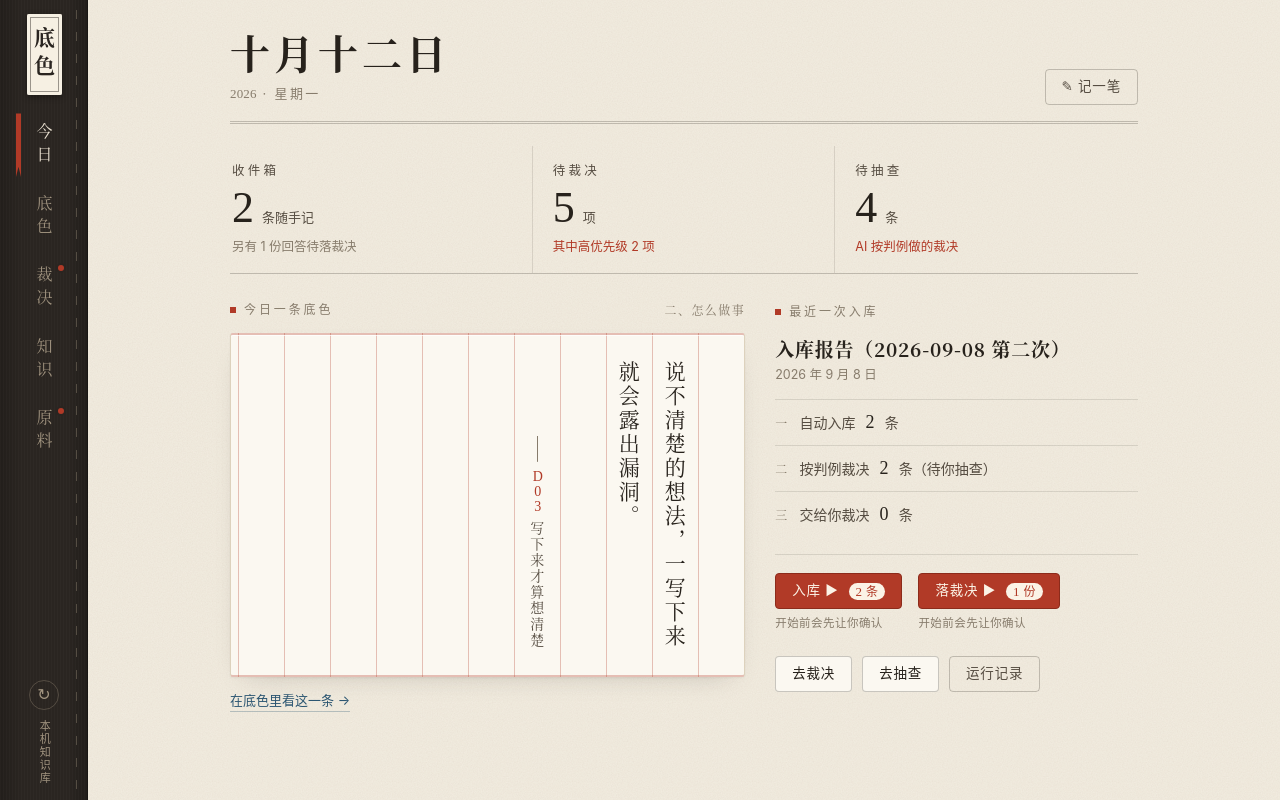
Test case: the history › lists the kept runs and opens one with its steps and check
Click the button "运行记录" at point(995, 674), box [949,656,1040,692]
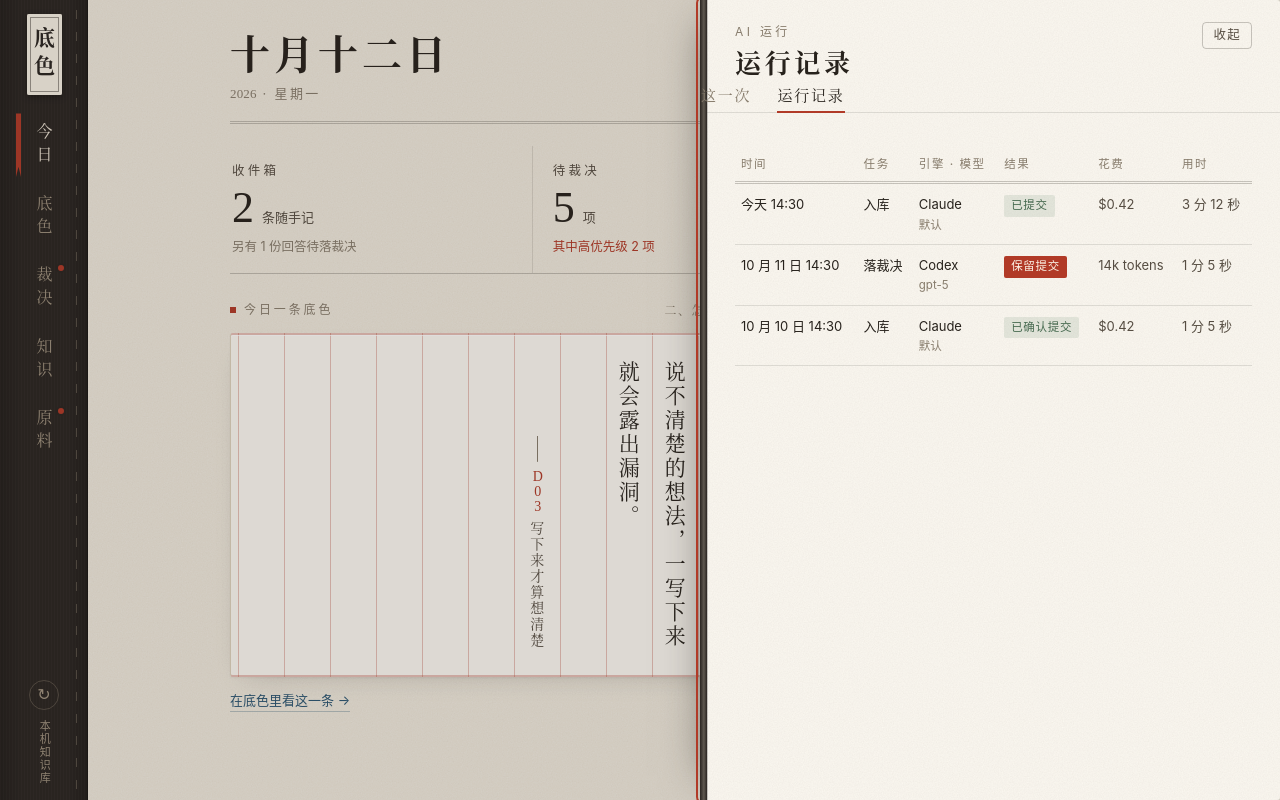
Check: the tab "运行记录" is shown, box [777,79,845,112]
Check: the row with class "history__row" shows "入库", box [864,196,890,212]
Check: the row with class "history__row" shows "Claude", box [919,196,962,212]
Click the row with class "history__row" that starts with "10 月 11 日 14:30" at point(994, 275), box [735,245,1252,305]
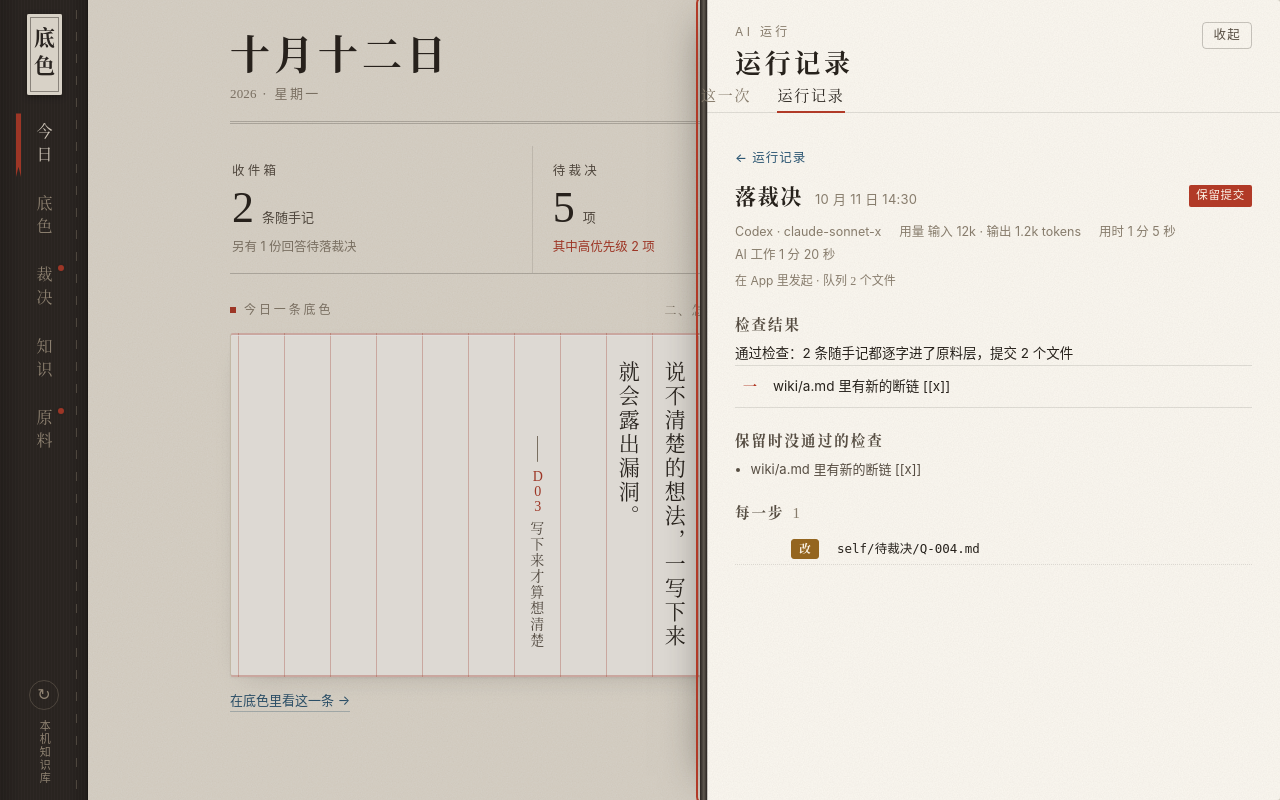
Check: the element with class "history-detail" shows "检查结果", box [735,313,801,334]
Check: the element with class "history-detail" shows "wiki/a.md 里有新的断链 [ [x]]", box [773,378,950,394]
Check: the element with class "history-detail" shows "保留时没通过的检查", box [735,429,884,450]
Click the button "← 运行记录" at point(771, 158), box [735,149,806,166]
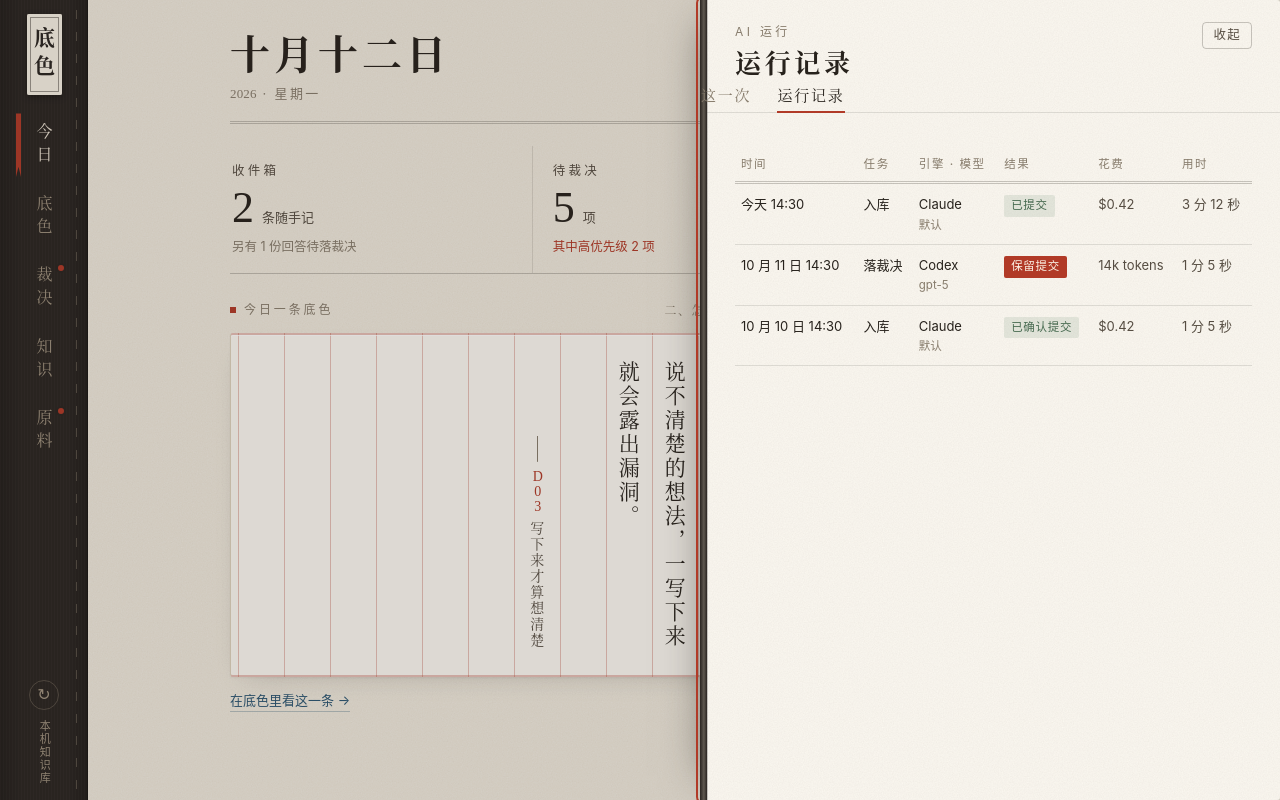
Check: the number of rows with class "history__row" is 3
Click the row with class "history__row" that starts with "10 月 10 日 14:30" at point(994, 336), box [735,305,1252,366]
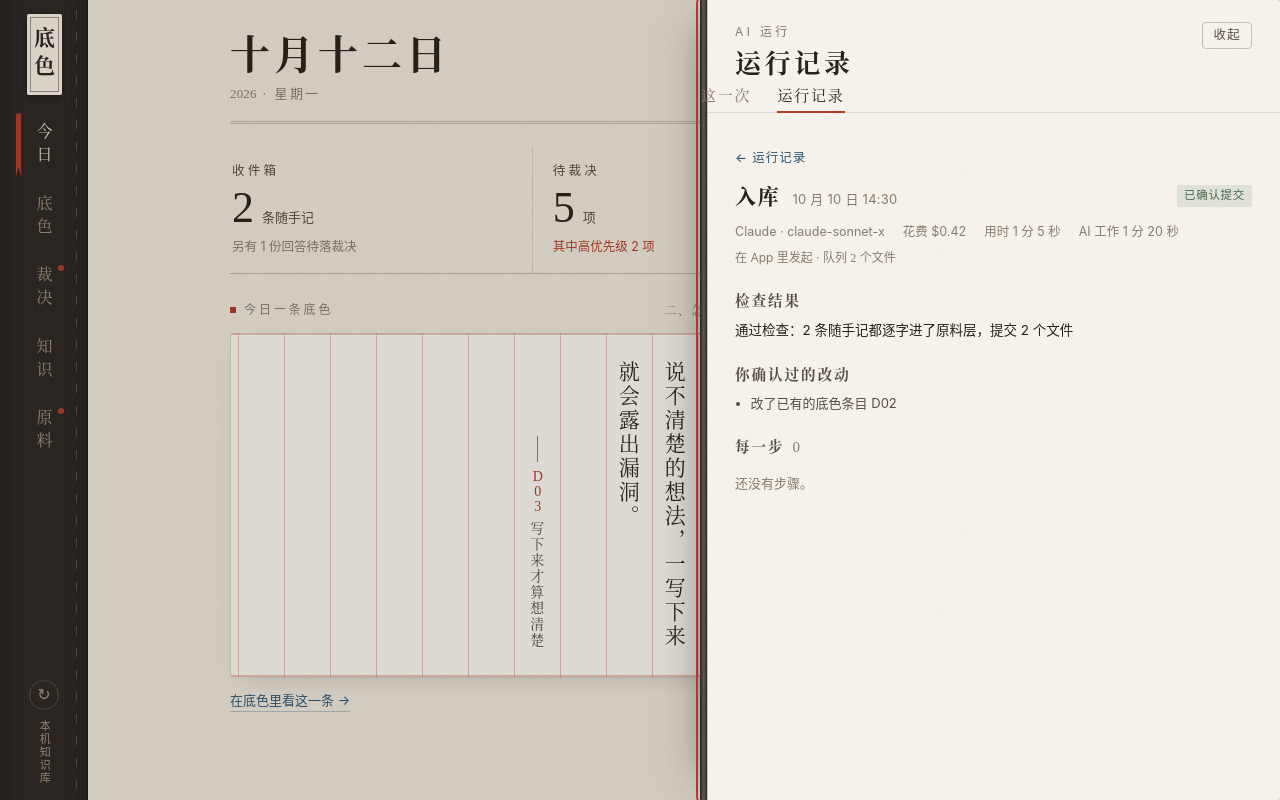
Check: the text with class "outcome" reads "已确认提交", box [1184,188,1245,202]
Check: the element with class "history-detail" shows "改了已有的底色条目 D02", box [751,395,897,411]
